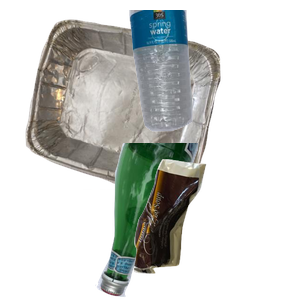glass: (93, 143, 284, 300)
metal: (23, 17, 236, 197)
plastic: (127, 10, 300, 134)
trash: (131, 157, 300, 300)
